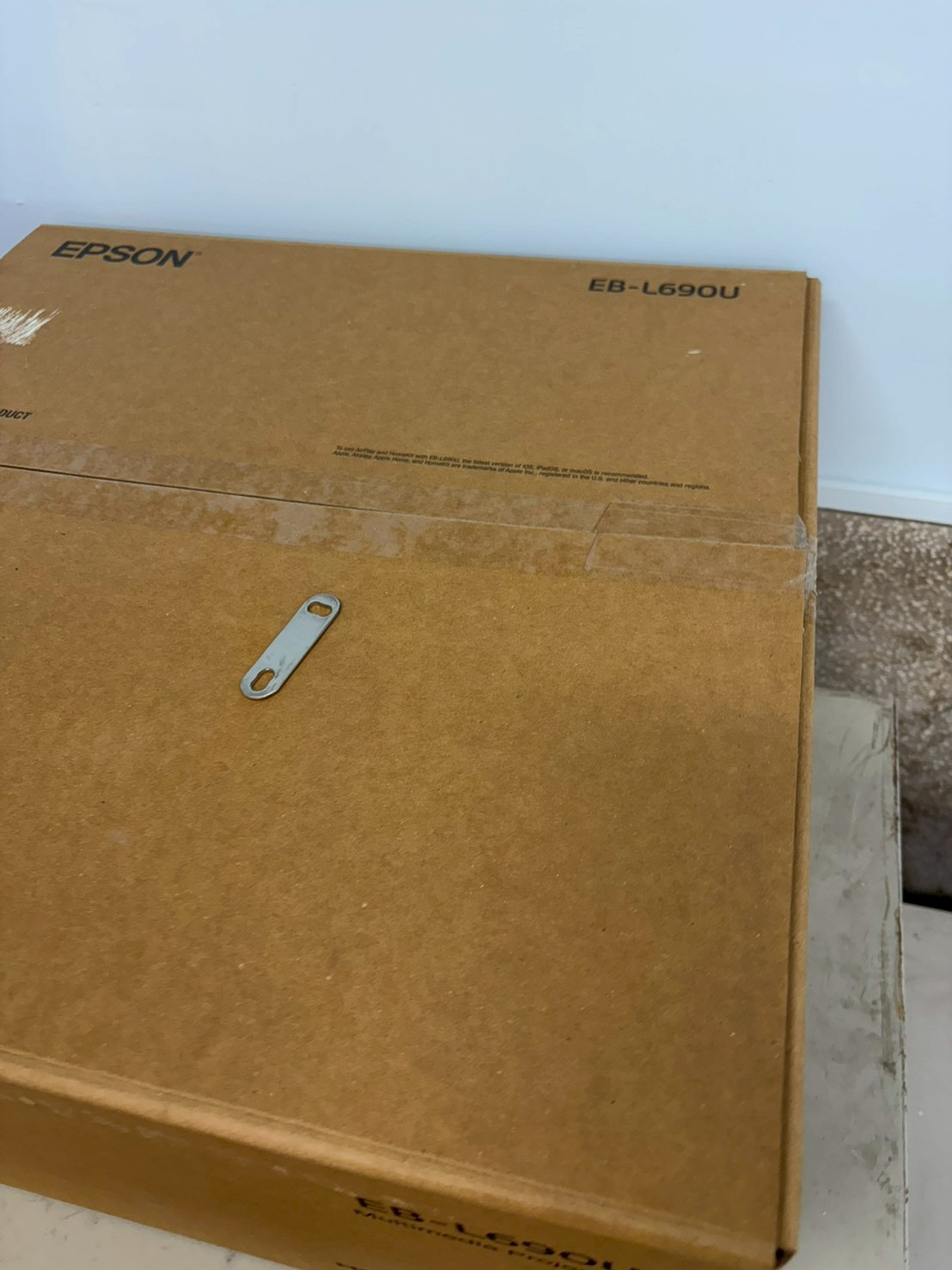Fe: (244, 586, 343, 707)
